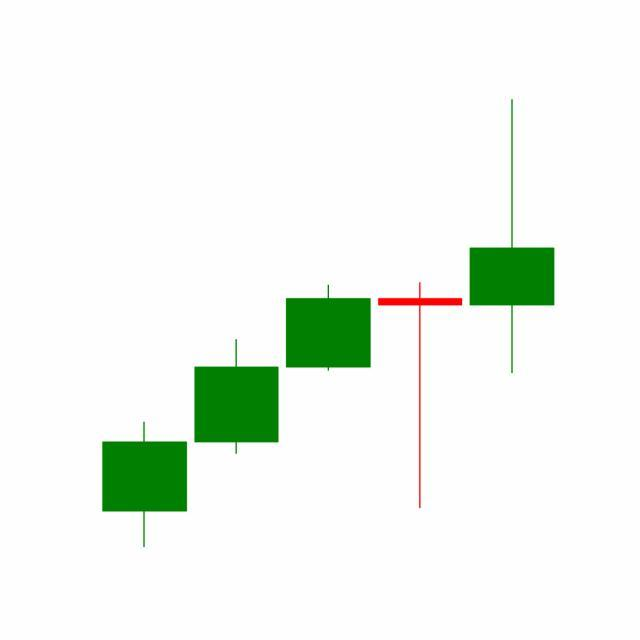Spinning Top: (374, 280, 468, 511)
